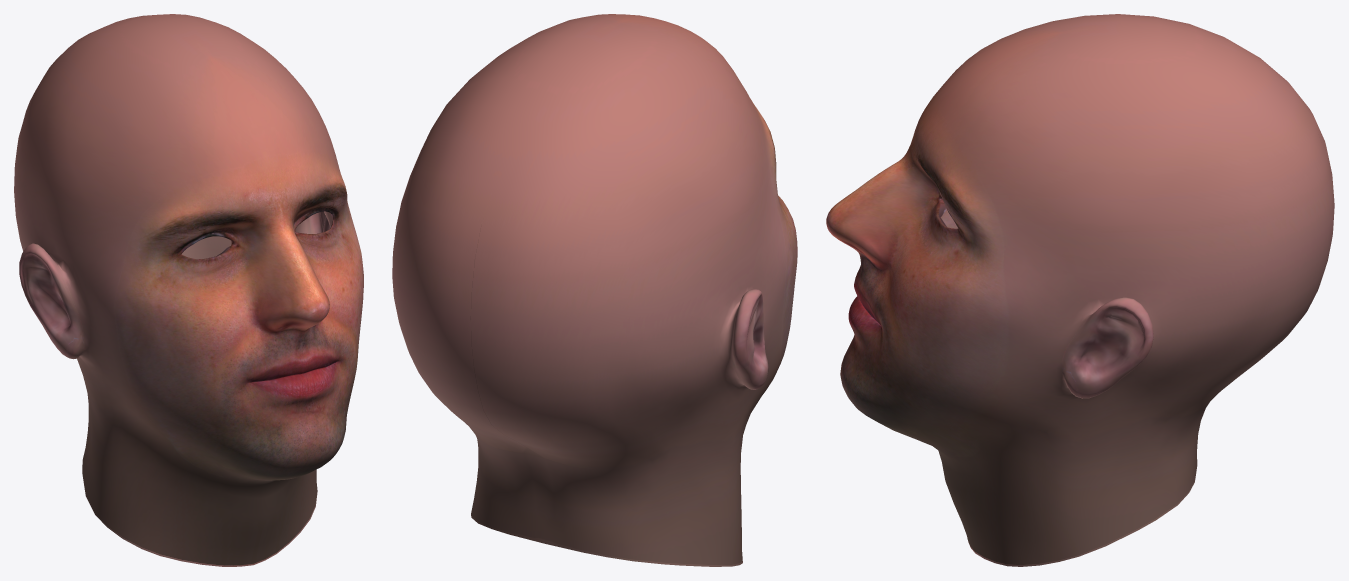
The picture shows the model from 3 angles, left to right: view 1: azimuth 30°, elevation 25°; view 2: azimuth 150°, elevation 25°; view 3: azimuth 270°, elevation 25°; orthographic projection. The views are drawn at different scales.
Parts seen in each view (by area): view 1: FaceGen; view 2: FaceGen; view 3: FaceGen.
Boxes of the visible parts, x1,y1,x2,y2 form: FaceGen: [14, 14, 363, 566]; FaceGen: [392, 14, 797, 566]; FaceGen: [826, 14, 1334, 566].
Bounding box in the file's own units: 182 × 277 × 248.
1 material, 1 textured.
